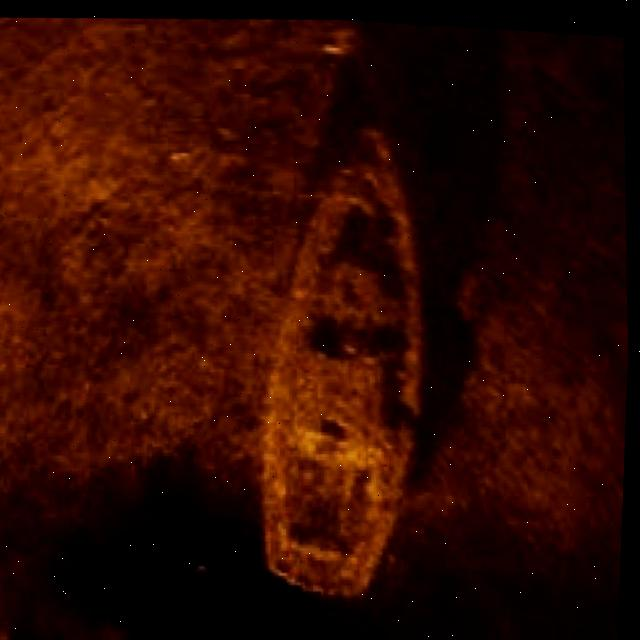shipwreck: (235, 106, 445, 601)
